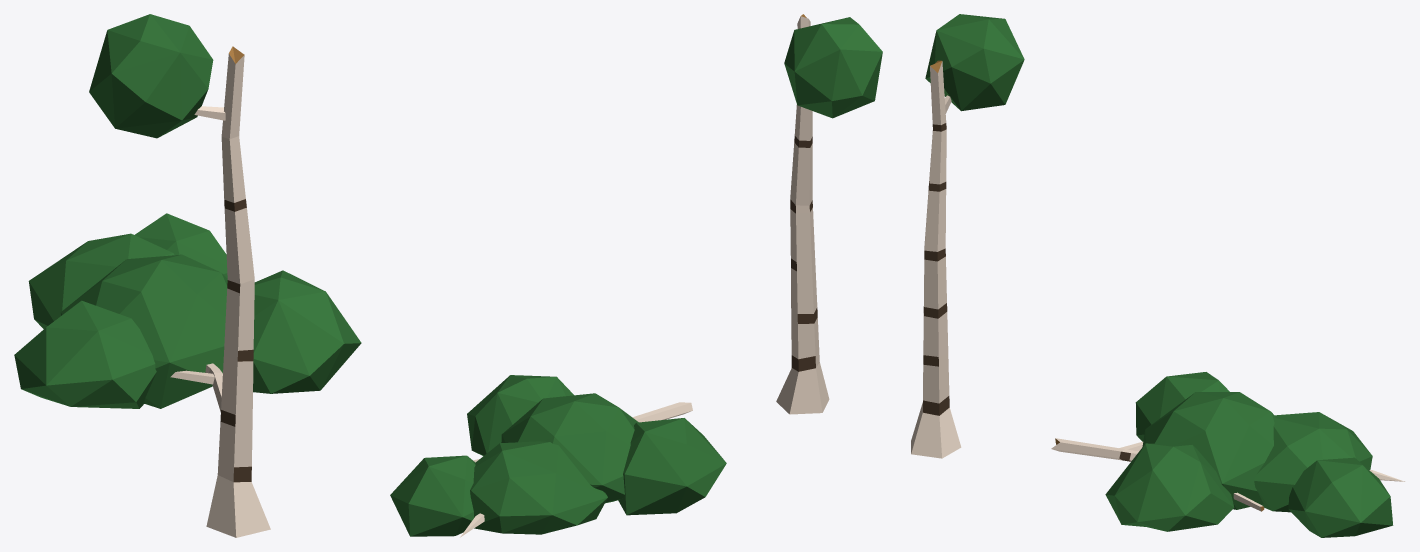
Rendered from nature-tree-birch-tall-broken.glb.
3 renders of one model, left to right at view 1: azimuth 30°, elevation 25°; view 2: azimuth 150°, elevation 25°; view 3: azimuth 270°, elevation 25°, orthographic. The views are drawn at different scales.
Visible parts, largest first — view 1: tree-birch-tall-broken; view 2: tree-birch-tall-broken; view 3: tree-birch-tall-broken.
Part boxes in pixels (x1,y1,x2,y2): tree-birch-tall-broken: (14, 14, 361, 537); tree-birch-tall-broken: (390, 14, 882, 537); tree-birch-tall-broken: (911, 14, 1405, 537).
Bounding box in the file's own units: 4.48 × 5.89 × 6.46.
